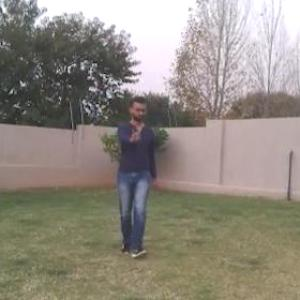takeoff-hand: (121, 123, 146, 150)
